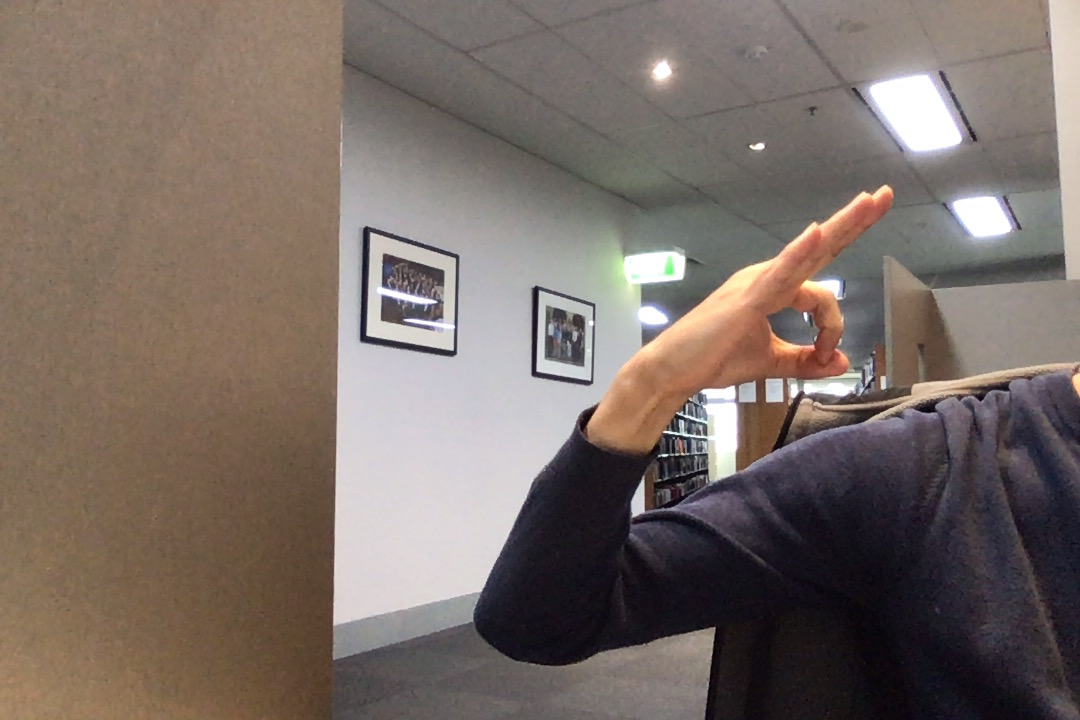oksign: (617, 175, 905, 400)
